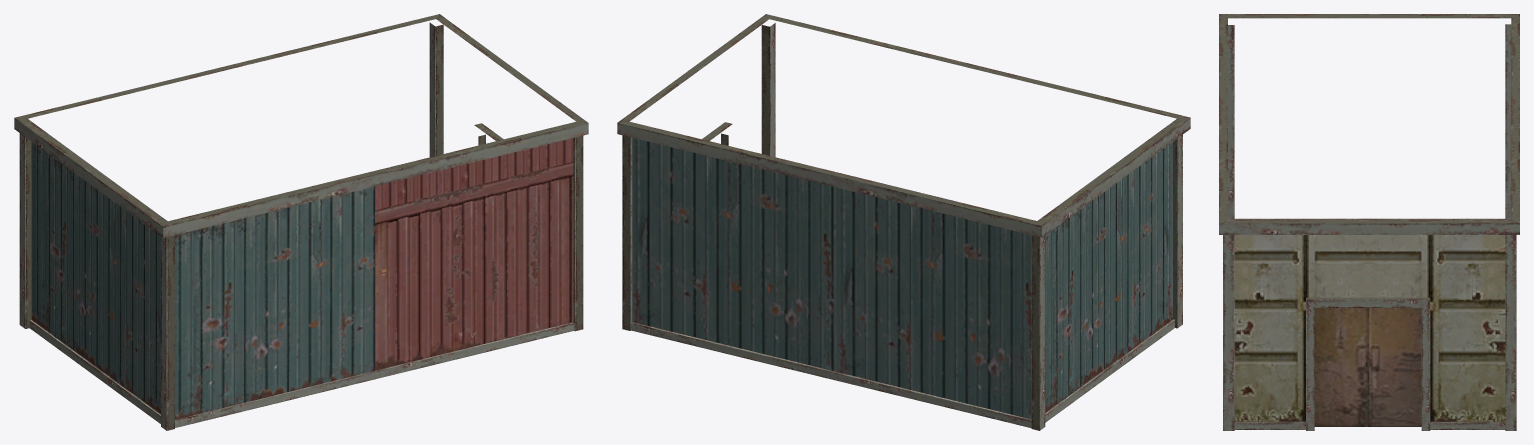
Rendered from Building_Wj025.glb.
3 views of the same model, side by side, from view 1: azimuth 30°, elevation 25°; view 2: azimuth 150°, elevation 25°; view 3: azimuth 270°, elevation 25° (orthographic).
Visible parts, largest first — view 1: xiutz_wj025; view 2: xiutz_wj025; view 3: xiutz_wj025.
Boxes of the visible parts, x1,y1,x2,y2 form: xiutz_wj025: [14, 14, 588, 430]; xiutz_wj025: [617, 14, 1190, 430]; xiutz_wj025: [1219, 14, 1519, 430].
Bounding box in the file's own units: 10.13 × 4.71 × 6.14.
1 material, 1 textured.
